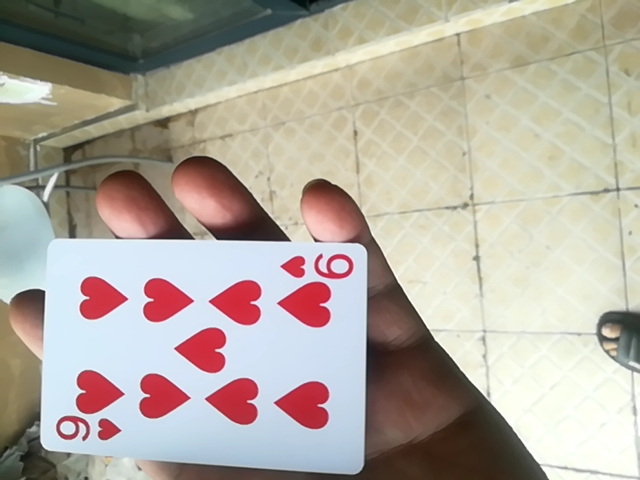hx 9: (36, 232, 369, 476)
